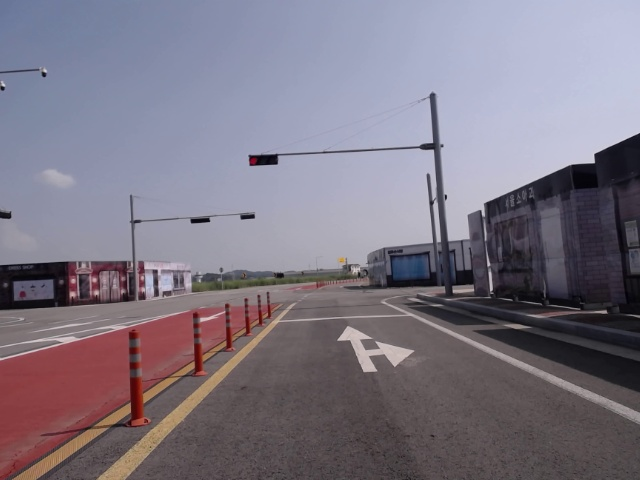red_3: (249, 155, 278, 166)
